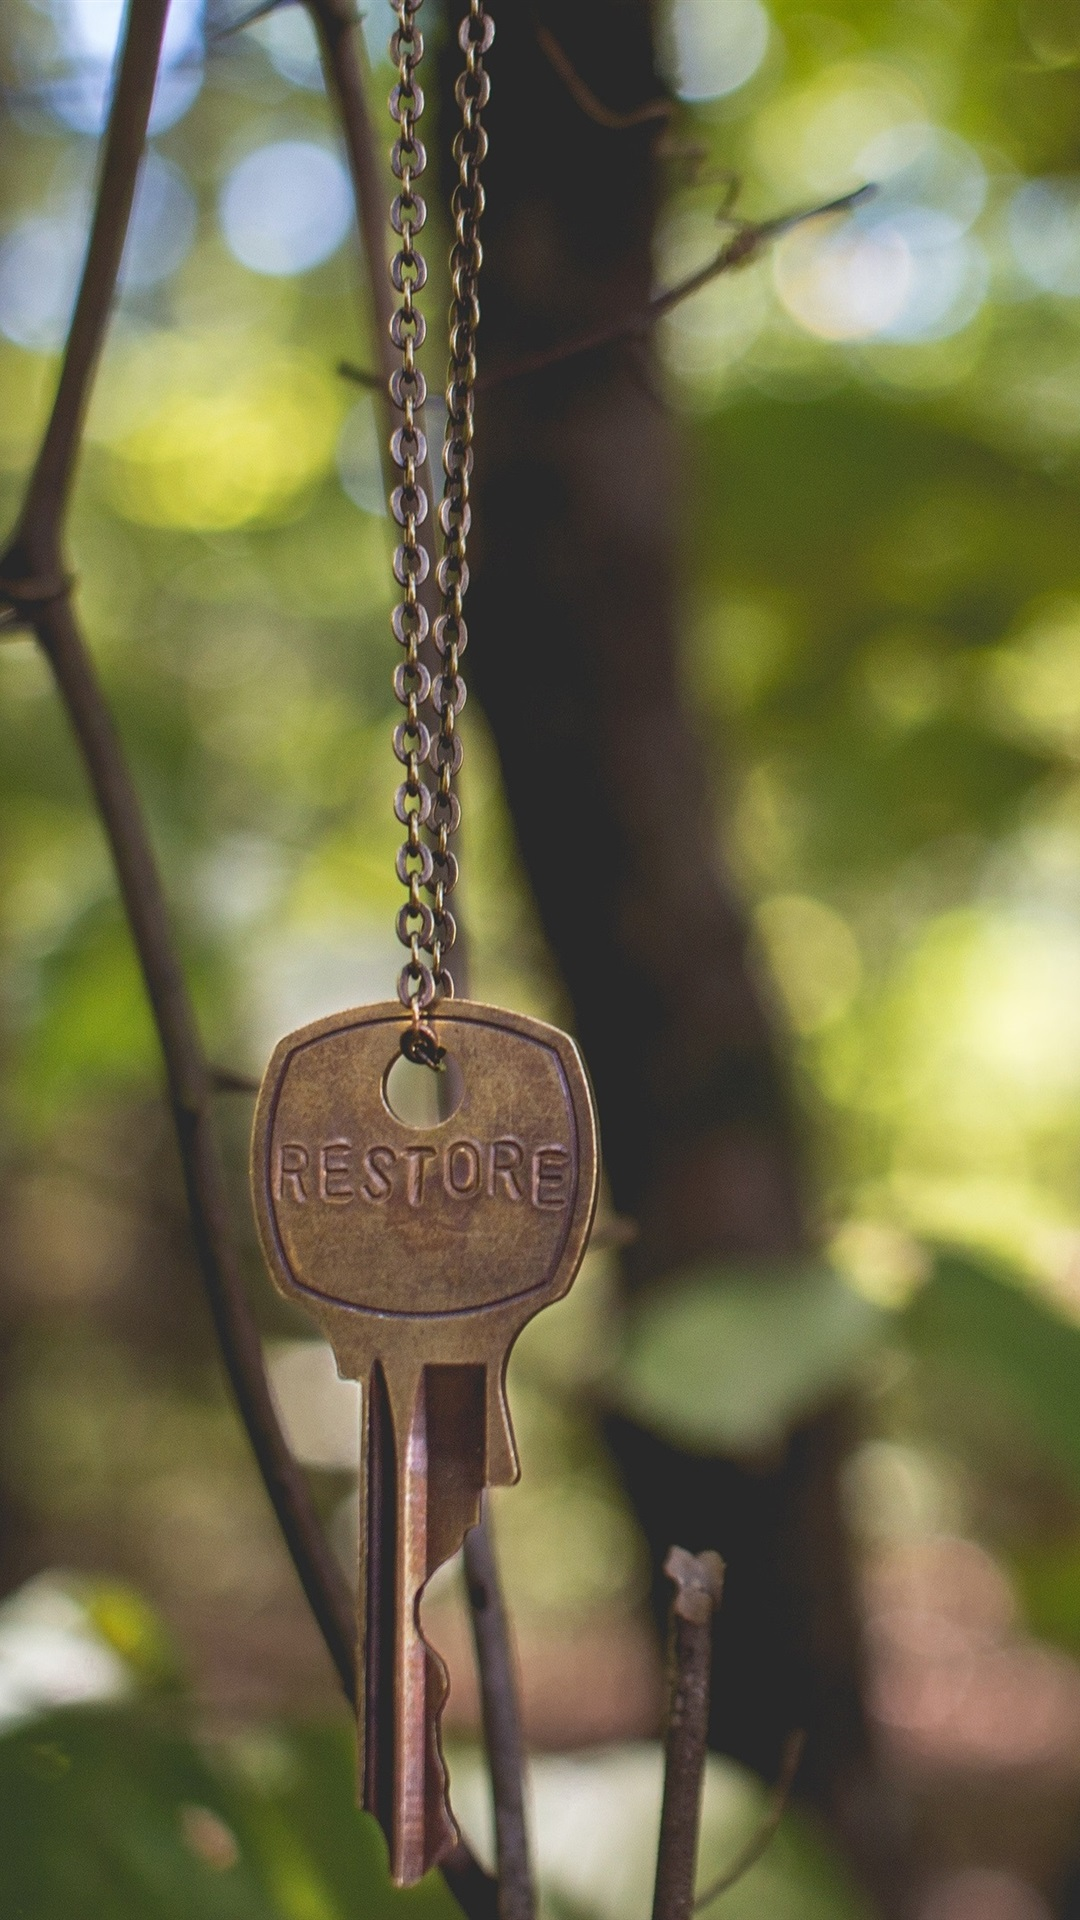key: (225, 981, 625, 1902)
